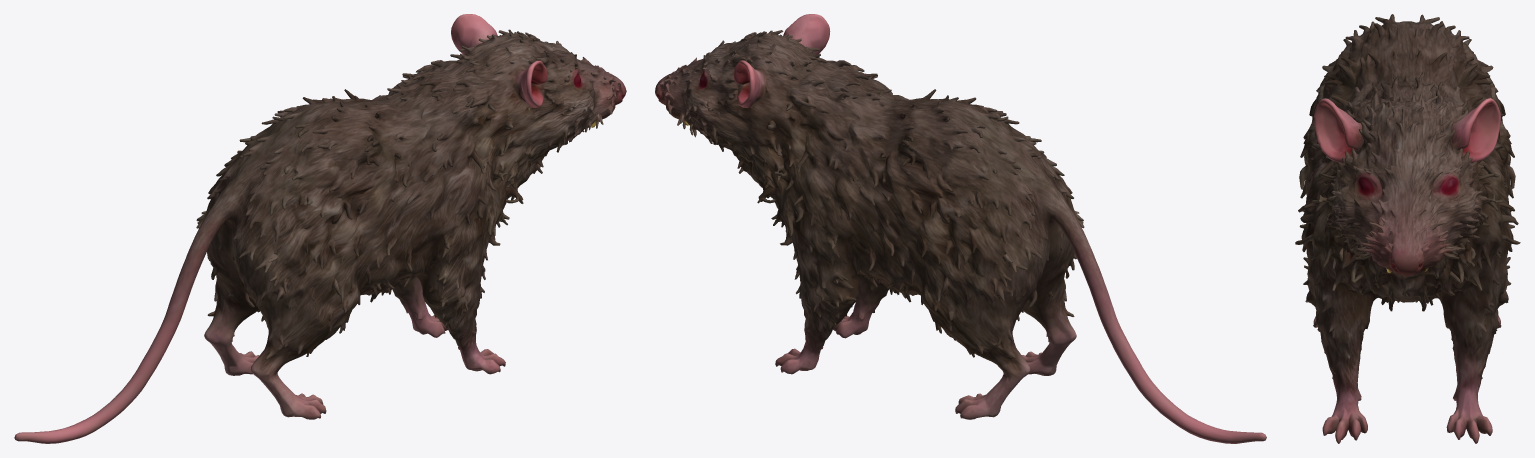
3 views of the same model, side by side, from view 1: azimuth 30°, elevation 25°; view 2: azimuth 150°, elevation 25°; view 3: azimuth 270°, elevation 25° (orthographic). The views are drawn at different scales.
Parts seen in each view (by area): view 1: tripo_node_d8235450-a0e5-4ca1-b0b7-5392e15424be; view 2: tripo_node_d8235450-a0e5-4ca1-b0b7-5392e15424be; view 3: tripo_node_d8235450-a0e5-4ca1-b0b7-5392e15424be.
Boxes of the visible parts, x1,y1,x2,y2 form: tripo_node_d8235450-a0e5-4ca1-b0b7-5392e15424be: (14,14,626,443); tripo_node_d8235450-a0e5-4ca1-b0b7-5392e15424be: (655,14,1266,443); tripo_node_d8235450-a0e5-4ca1-b0b7-5392e15424be: (1295,14,1520,443).
Size of the model in its own units: 1 by 0.4757 by 0.269.
Materials: 1 (1 with a texture image).
